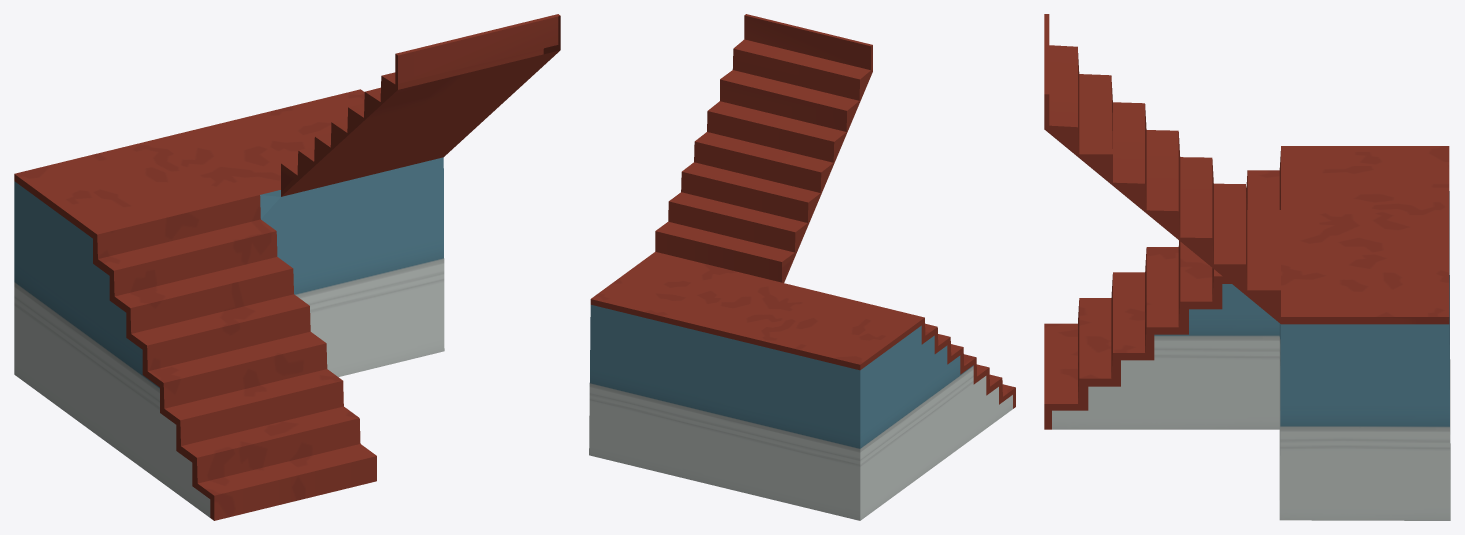
Rendered from SM_Bld_House_Interior_Stairs_03.fbx.
The picture shows the model from 3 angles, left to right: view 1: azimuth 30°, elevation 25°; view 2: azimuth 150°, elevation 25°; view 3: azimuth 270°, elevation 25°; orthographic projection. The views are drawn at different scales.
Visible parts, largest first — view 1: SM_Bld_House_Interior_Stairs_03; view 2: SM_Bld_House_Interior_Stairs_03; view 3: SM_Bld_House_Interior_Stairs_03.
Part boxes in pixels (<box>): SM_Bld_House_Interior_Stairs_03: <box>14,14,560,520</box>; SM_Bld_House_Interior_Stairs_03: <box>589,14,1015,520</box>; SM_Bld_House_Interior_Stairs_03: <box>1044,14,1450,520</box>.
Size of the model in its own units: 251 by 290 by 251.
1 material, 1 textured.
